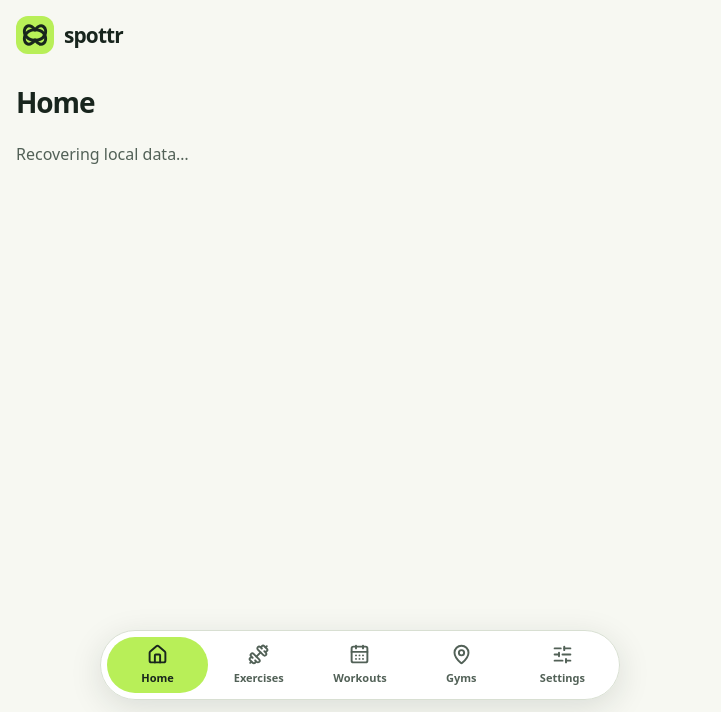
it: Spottr application shell › moves selection and focus with arrow keys
The image size is (721, 712).
Step 1. Click the tab "Home" → (158, 665), box [107,637,208,693]
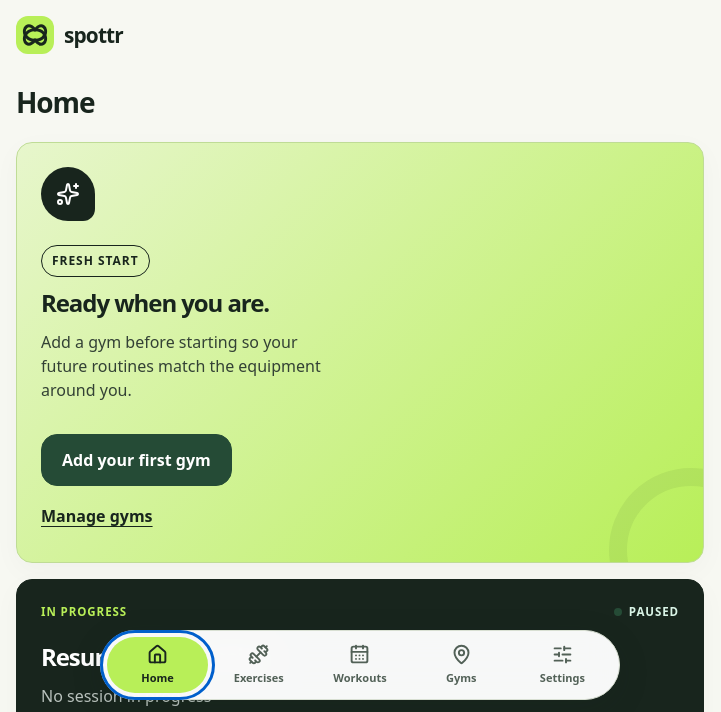
Step 2. Press Arrowright
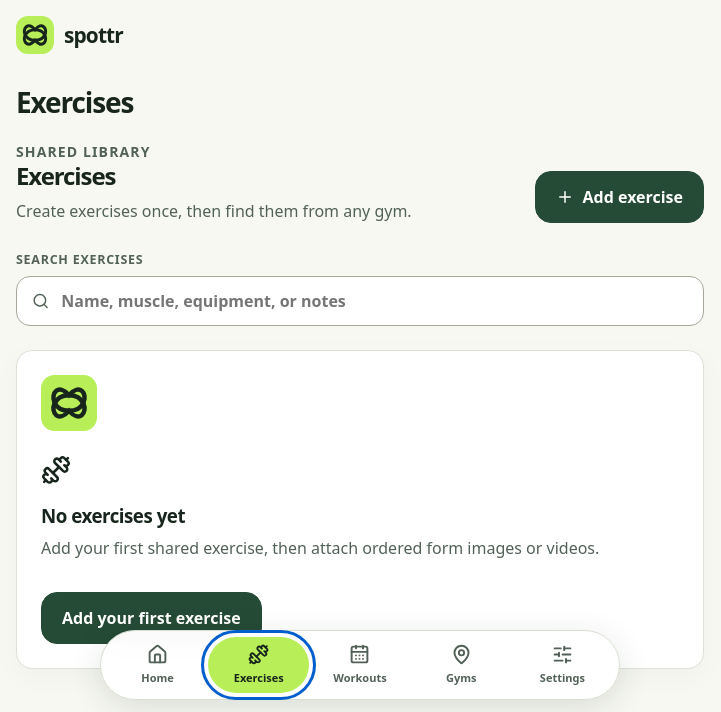
Check: the 1st heading "Exercises" is shown, box [16,86,133,118]
Check: the panel "Exercises" is shown
